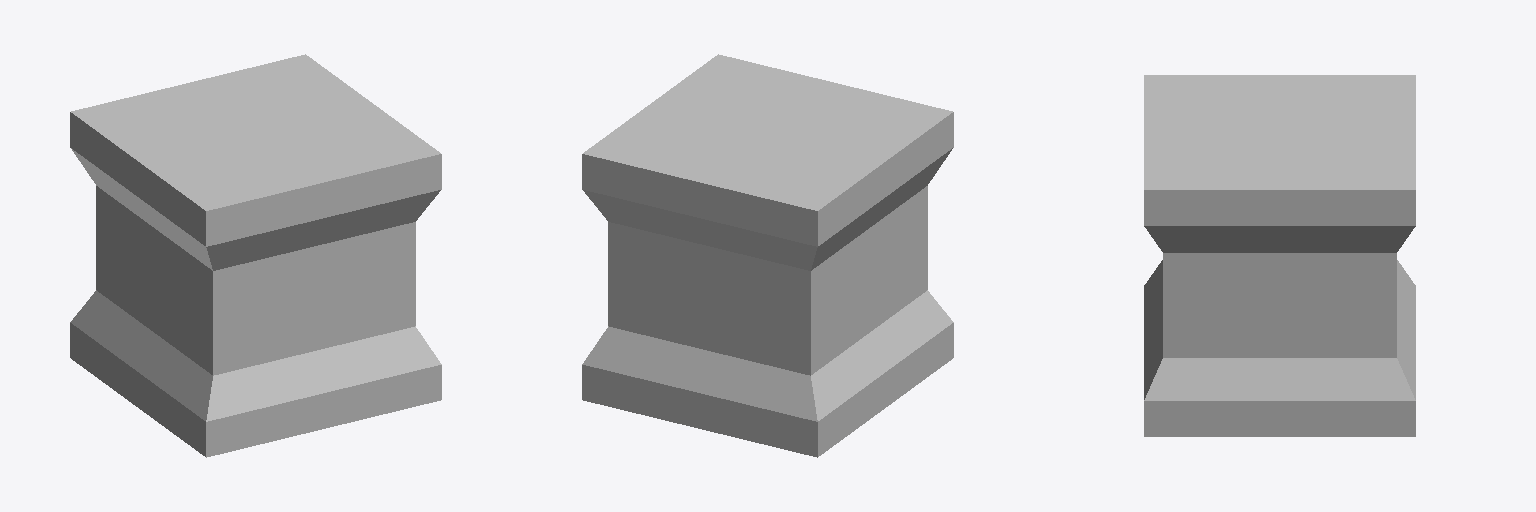
File: TestBox.obj
3 renders of one model, left to right at view 1: azimuth 30°, elevation 25°; view 2: azimuth 150°, elevation 25°; view 3: azimuth 270°, elevation 25°, orthographic.
Visible parts, largest first — view 1: Cube; view 2: Cube; view 3: Cube.
Part boxes in pixels (bbox=[...]): Cube: bbox=[70, 54, 441, 457]; Cube: bbox=[582, 54, 953, 457]; Cube: bbox=[1144, 75, 1415, 436].
Bounding box in the file's own units: 2 × 2 × 2.